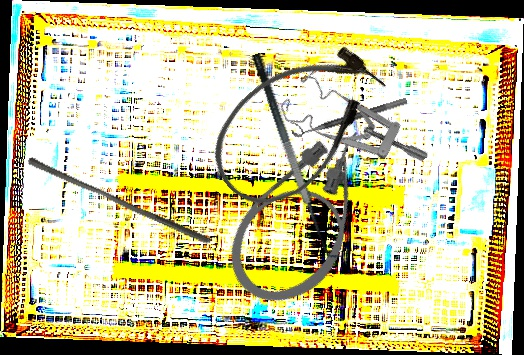Cannula: (207, 109, 409, 325), (191, 22, 402, 226)
Fixation Ring: (289, 87, 408, 140)
Pusher: (23, 155, 216, 246)
Spatula Surgical: (250, 46, 347, 265)
Speculum: (272, 49, 430, 211)
